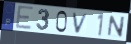0: (55, 10, 68, 34)
1: (97, 13, 105, 38)
3: (35, 8, 50, 31)
E: (15, 4, 35, 31)
N: (106, 15, 127, 39)
V: (72, 12, 89, 35)
